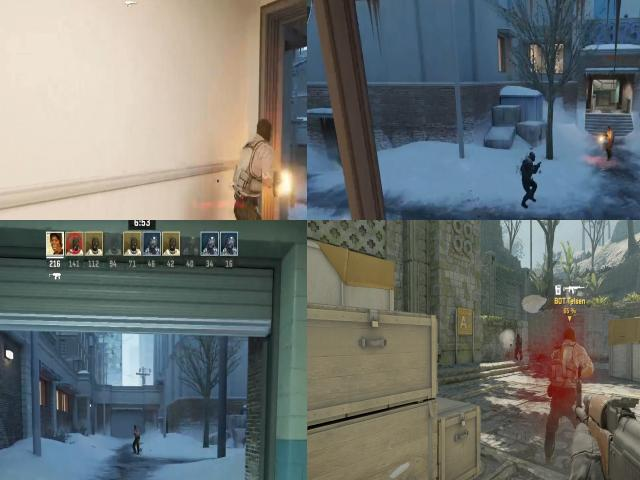Bomb: (552, 345, 566, 369)
CT: (518, 147, 539, 198), (512, 333, 524, 362)
CT-Head: (526, 150, 536, 164), (516, 333, 522, 342)
T: (542, 324, 589, 467), (229, 106, 283, 220), (243, 115, 277, 150), (604, 125, 616, 155), (132, 424, 140, 444)
T-Head: (560, 328, 576, 346), (605, 127, 613, 136), (133, 426, 138, 432)
